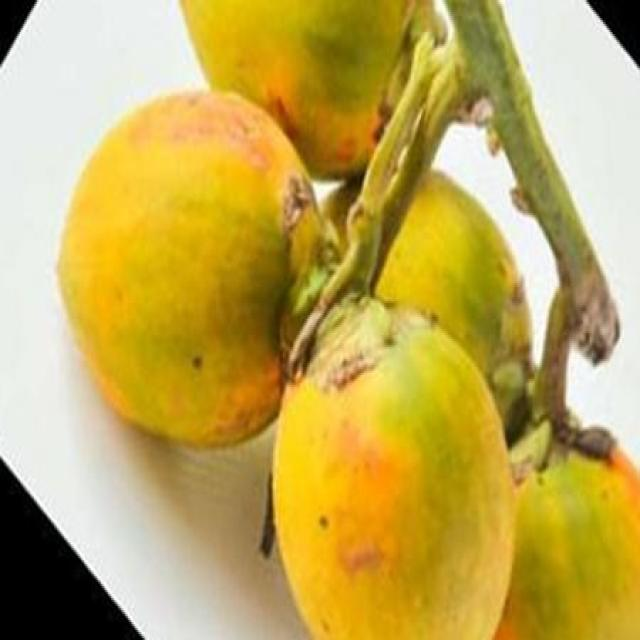good: (53, 90, 326, 453), (270, 277, 518, 638), (377, 171, 560, 480), (176, 0, 412, 181), (496, 447, 639, 638)
